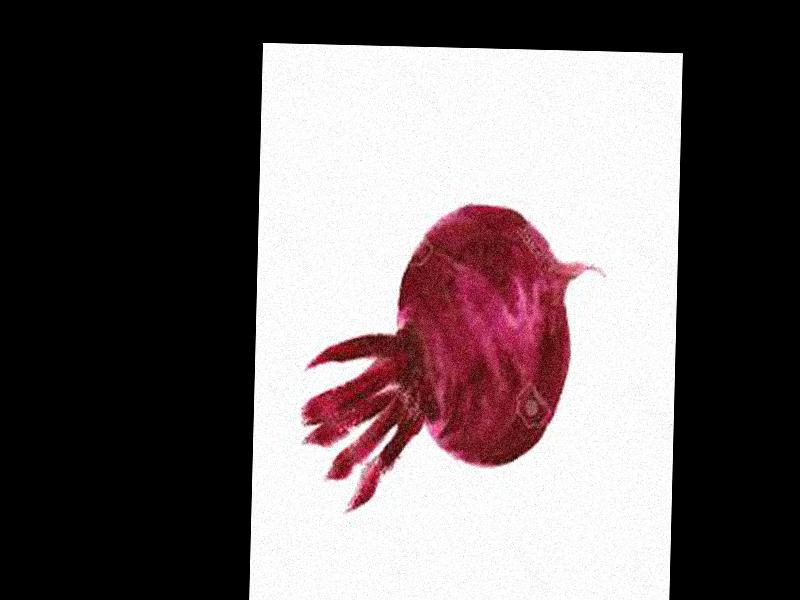Beet: (299, 198, 609, 517)
